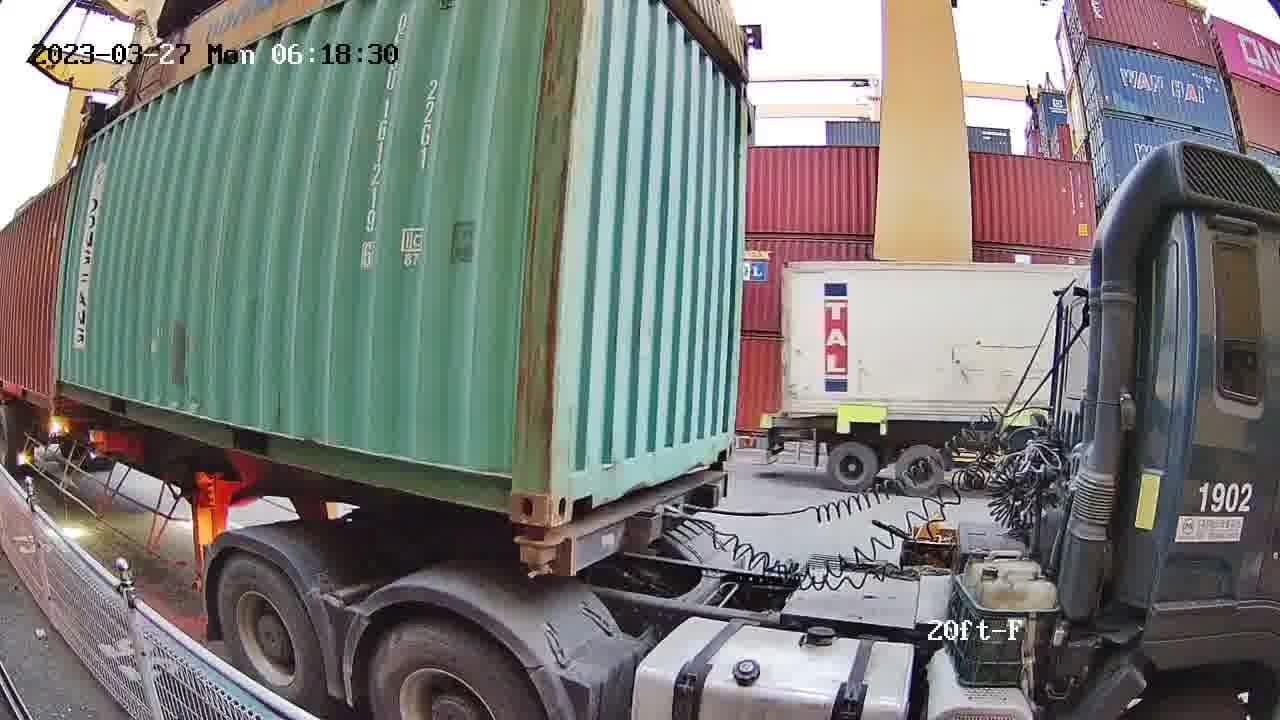Chassis: (525, 471, 728, 572)
Cone: (516, 527, 559, 581)
Hole_L: (548, 456, 597, 527)
Hole_R: (479, 452, 550, 527), (711, 427, 736, 463)
Tire: (218, 560, 319, 708), (369, 626, 534, 714)
